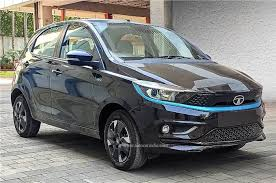Tiago: (10, 16, 268, 175)
